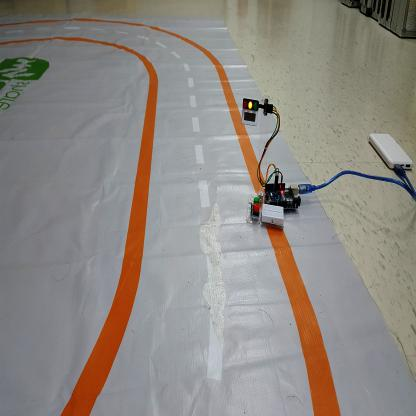traffic-light: (241, 97, 259, 111)
